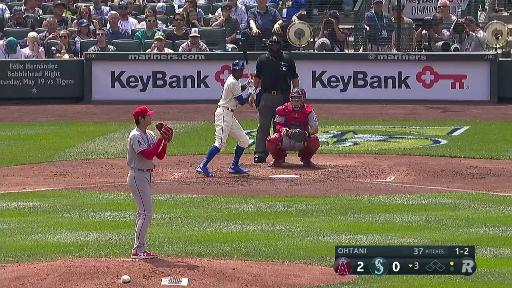pitcher: (127, 105, 173, 258)
